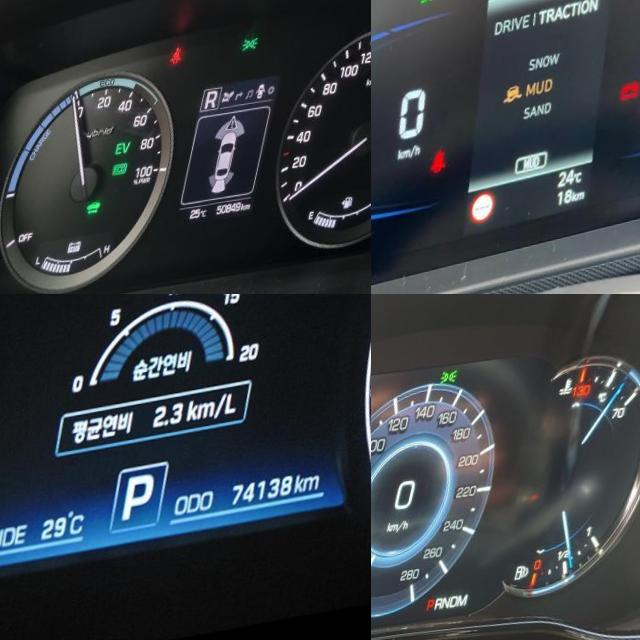Low beam: (426, 0, 450, 8)
SideLamp: (447, 378, 466, 394), (252, 46, 271, 61)
